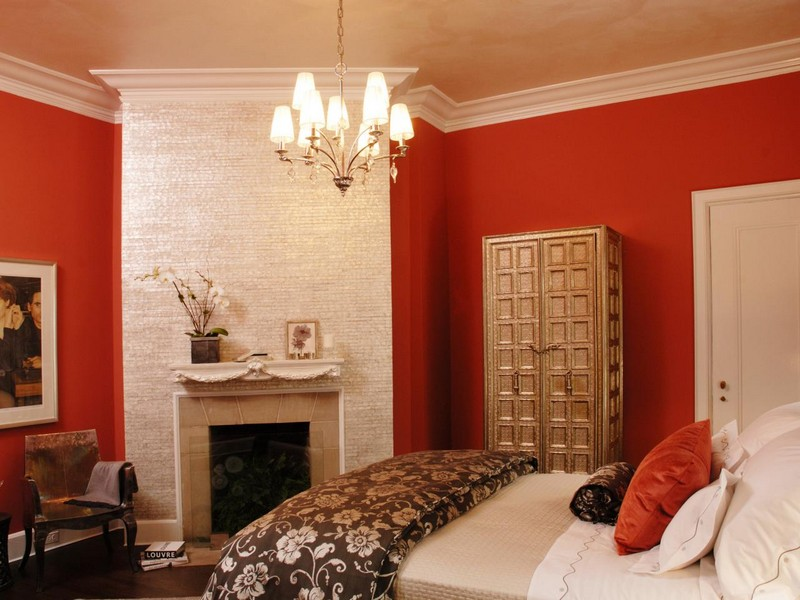bed: (213, 399, 800, 600)
chair: (22, 426, 145, 592)
door: (703, 196, 800, 431)
